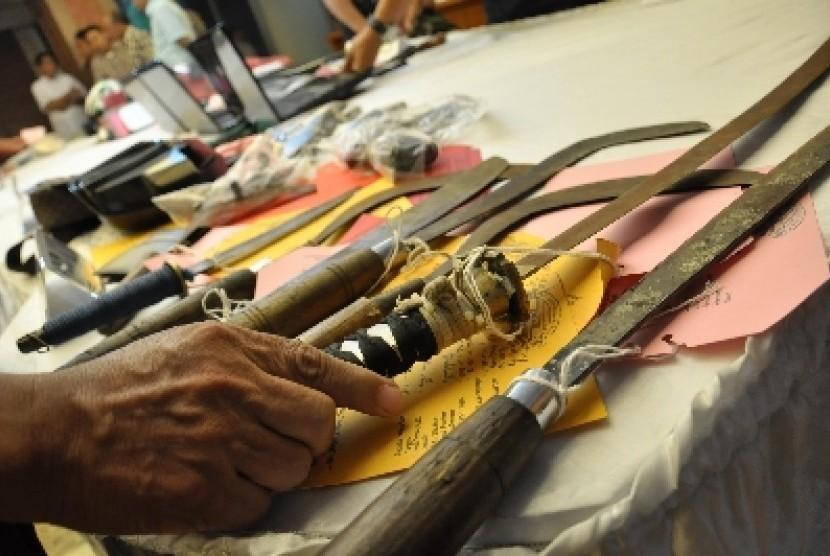espada: (326, 120, 830, 556), (290, 38, 830, 407)
